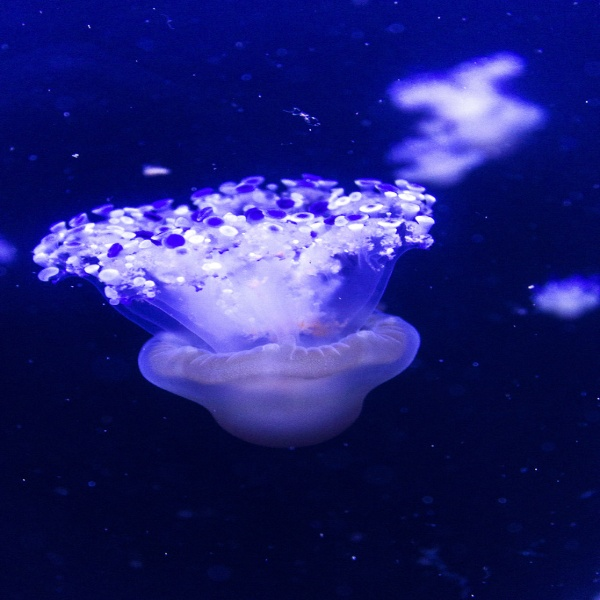Jellyfish: (28, 160, 444, 441)
